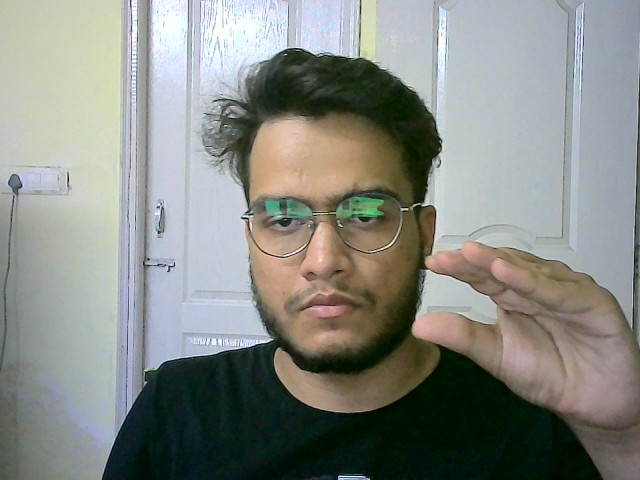No: (414, 238, 640, 418)
